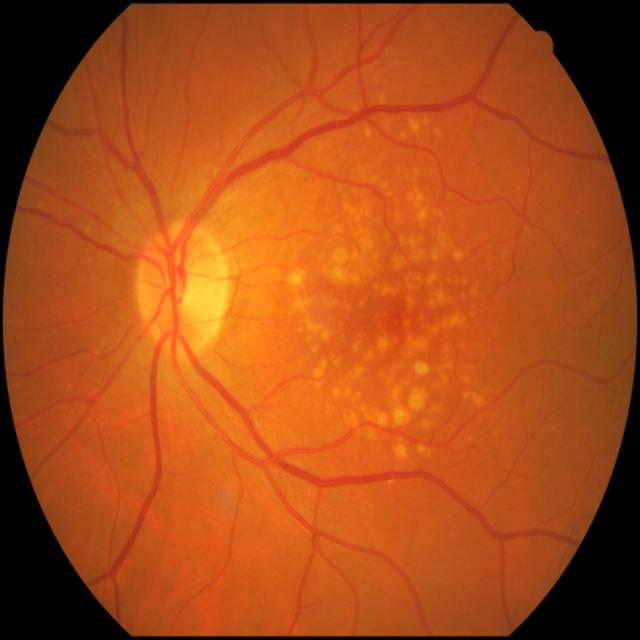OC: (173, 270, 209, 312)
OD: (136, 225, 228, 354)
